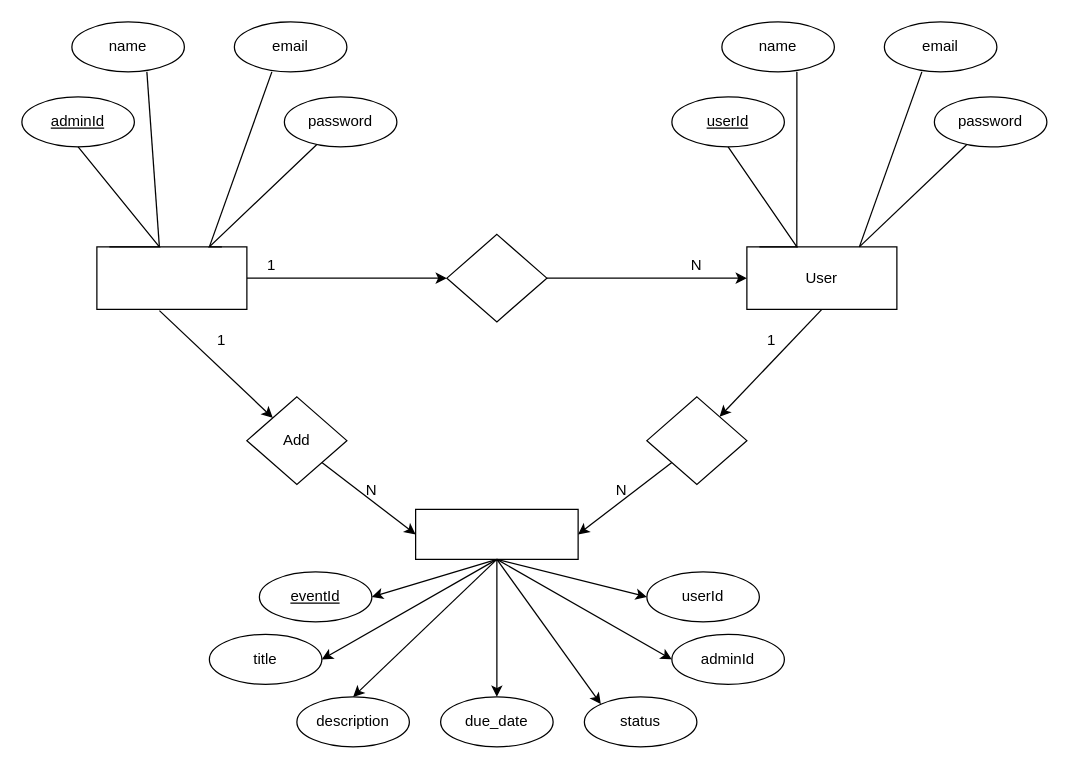
This 1069x769 diagram has some shape labels left out. Here are the shapes that lost their labels. From the top down, the centre of each, then its label:
At (171,277): "Admin".
At (496,277): "Assigns".
At (696,440): "Has".
At (496,533): "Event".
